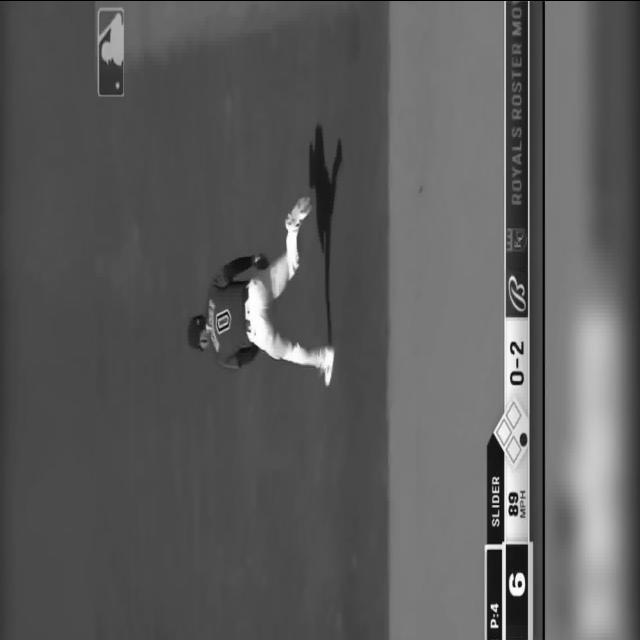baseball_glove: (252, 253, 268, 270)
shoe: (284, 196, 312, 232), (323, 346, 335, 386)
